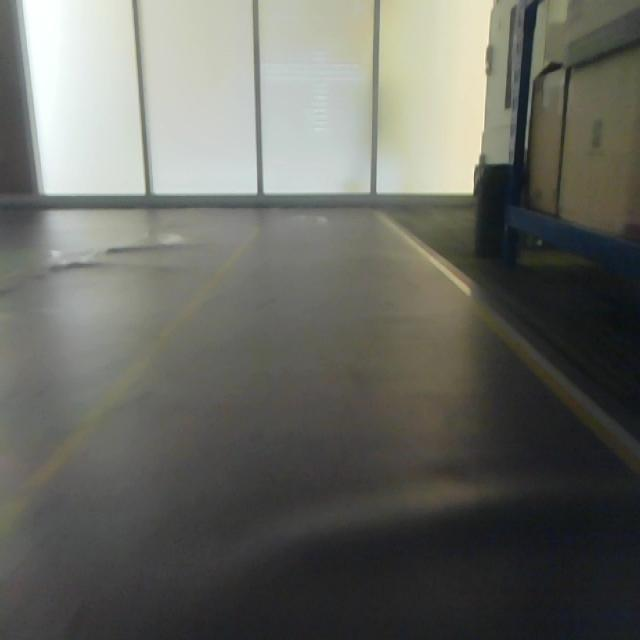left_lane: (0, 224, 258, 545)
right_lane: (373, 210, 640, 486)
